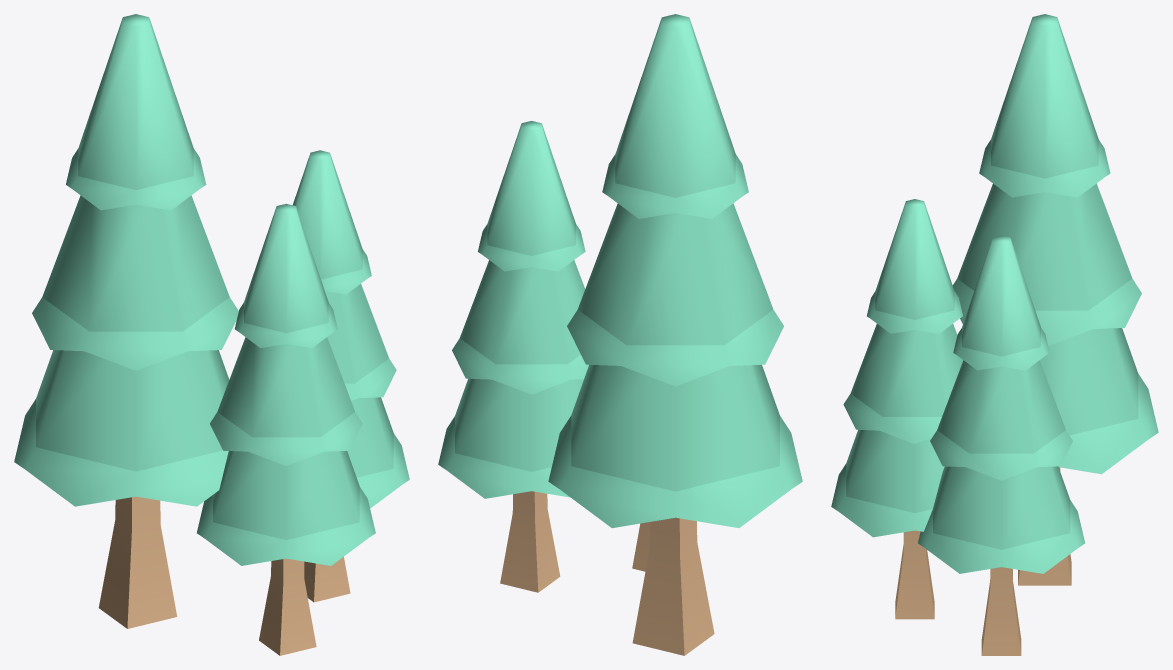
File: tree_multiple.fbx
The picture shows the model from 3 angles, left to right: view 1: azimuth 30°, elevation 25°; view 2: azimuth 150°, elevation 25°; view 3: azimuth 270°, elevation 25°; orthographic projection. The views are drawn at different scales.
Visible parts, largest first — view 1: tree; view 2: tree; view 3: tree.
Boxes of the visible parts, bbox=[...] form: tree: bbox=[14, 14, 409, 655]; tree: bbox=[438, 14, 802, 655]; tree: bbox=[831, 14, 1158, 655].
Bounding box in the file's own units: 88.1 × 141 × 75.66.
